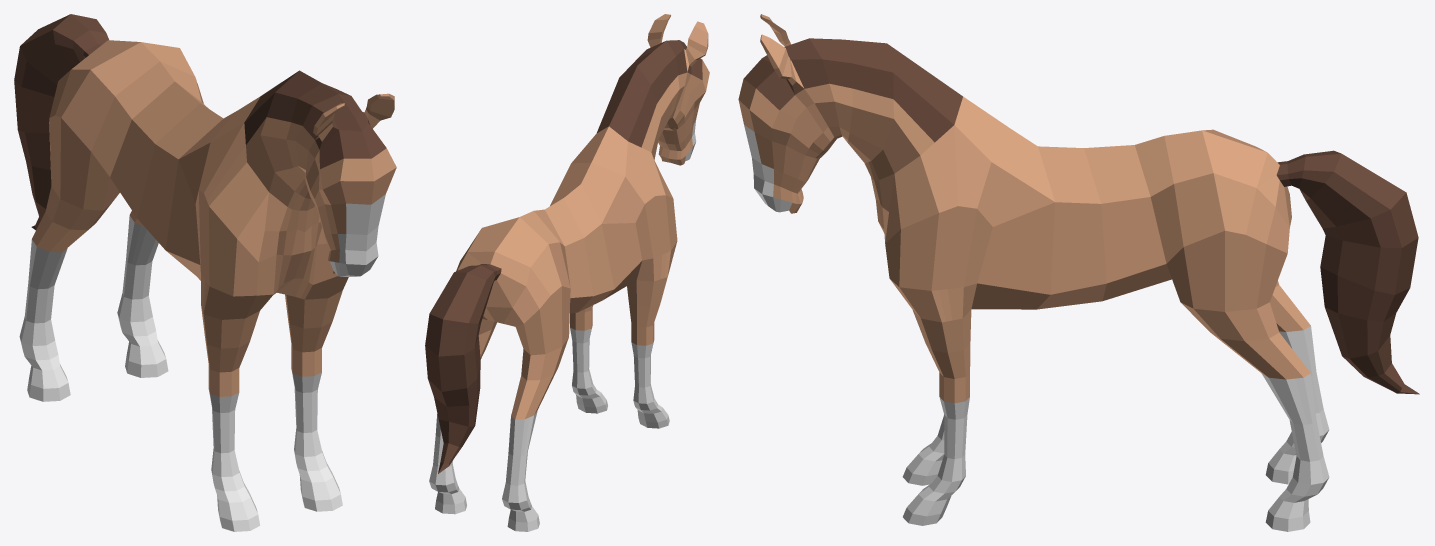
The model's file is low_poly_horse.glb.
3 views of the same model, side by side, from view 1: azimuth 30°, elevation 25°; view 2: azimuth 150°, elevation 25°; view 3: azimuth 270°, elevation 25° (orthographic). The views are drawn at different scales.
Parts seen in each view (by area): view 1: Cylinder; view 2: Cylinder; view 3: Cylinder.
Boxes of the visible parts, left/top/right/bottom form: Cylinder: left=14, top=14, right=396, bottom=531; Cylinder: left=425, top=14, right=709, bottom=531; Cylinder: left=738, top=14, right=1419, bottom=531.
Size of what is drawn, in the model's own units: 0.5837 by 1.92 by 2.51.
